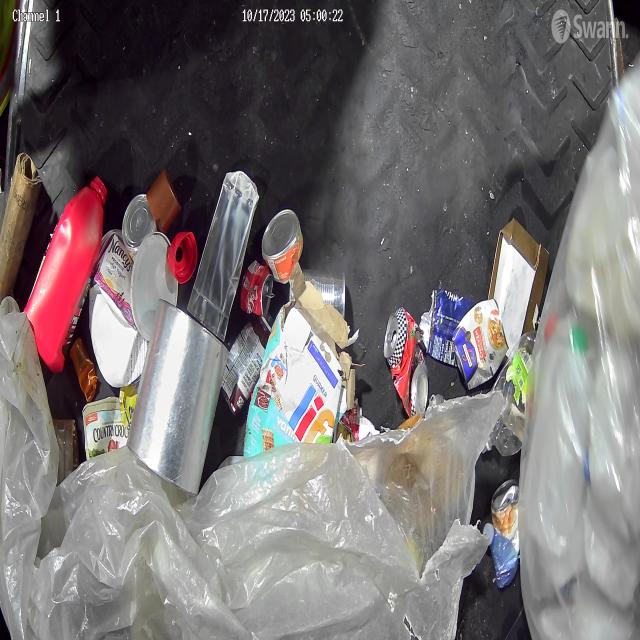can: (450, 298, 509, 388), (383, 306, 429, 419), (256, 208, 300, 290), (289, 266, 346, 320), (489, 478, 519, 557), (235, 264, 272, 324)
non_white_jug: (29, 180, 108, 377)
